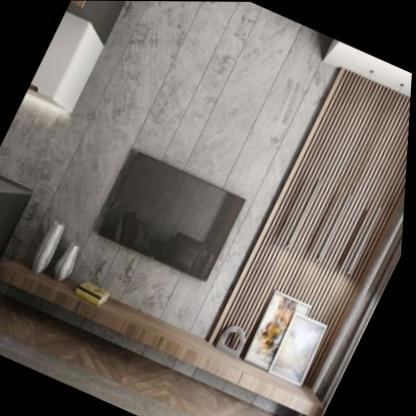Wall Panel: (0, 0, 416, 401)
Wooden floor: (0, 294, 277, 416)
